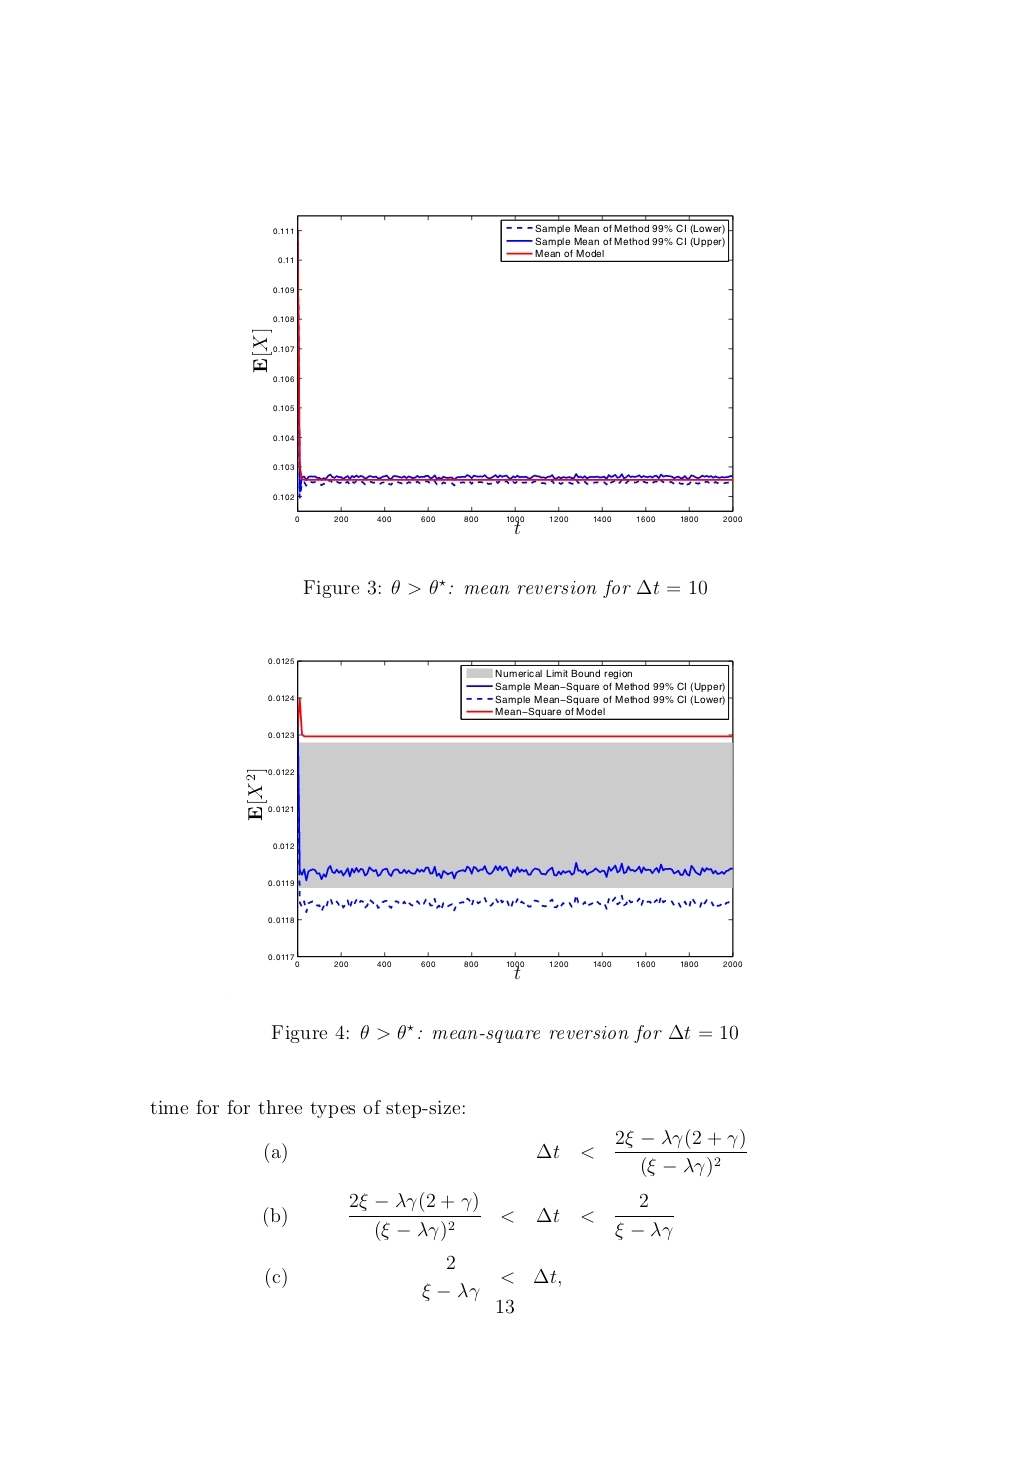figure: (245, 657, 742, 980), (252, 215, 742, 534)
formula: (264, 1128, 746, 1177), (264, 1191, 673, 1241), (266, 1254, 560, 1314)
